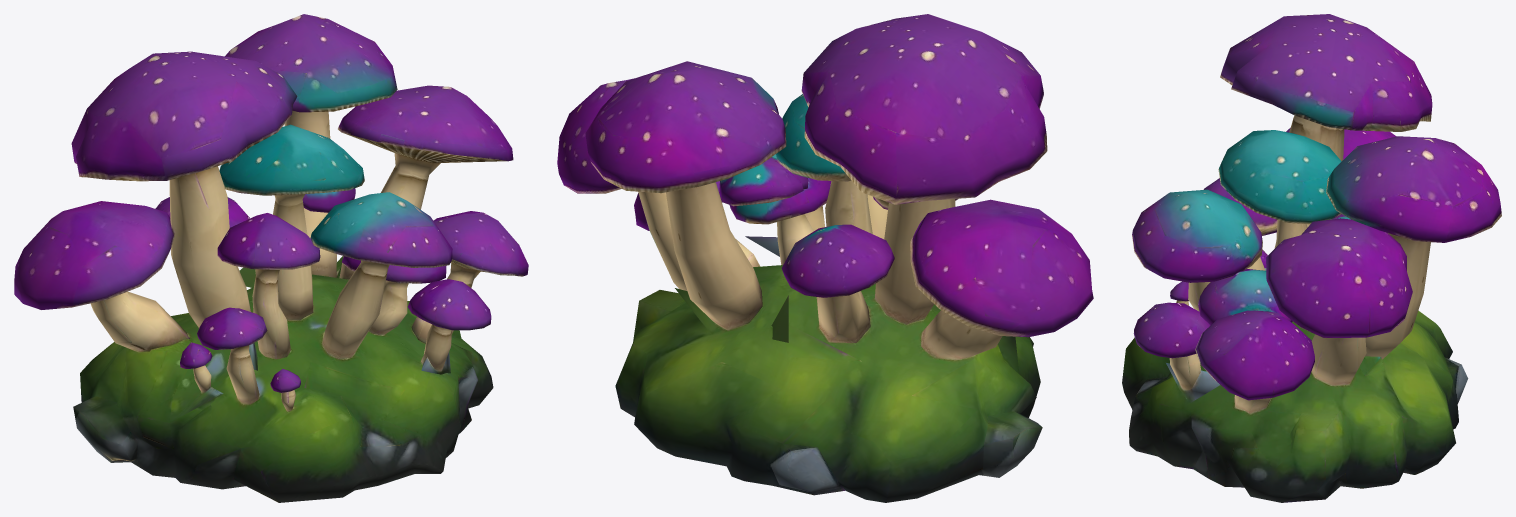
The model's file is mushroomCluster.glb.
3 views of the same model, side by side, from view 1: azimuth 30°, elevation 25°; view 2: azimuth 150°, elevation 25°; view 3: azimuth 270°, elevation 25° (orthographic). The views are drawn at different scales.
Bounding box in the file's own units: 0.9614 × 0.7329 × 0.71.
Materials: 1 (1 with a texture image).
